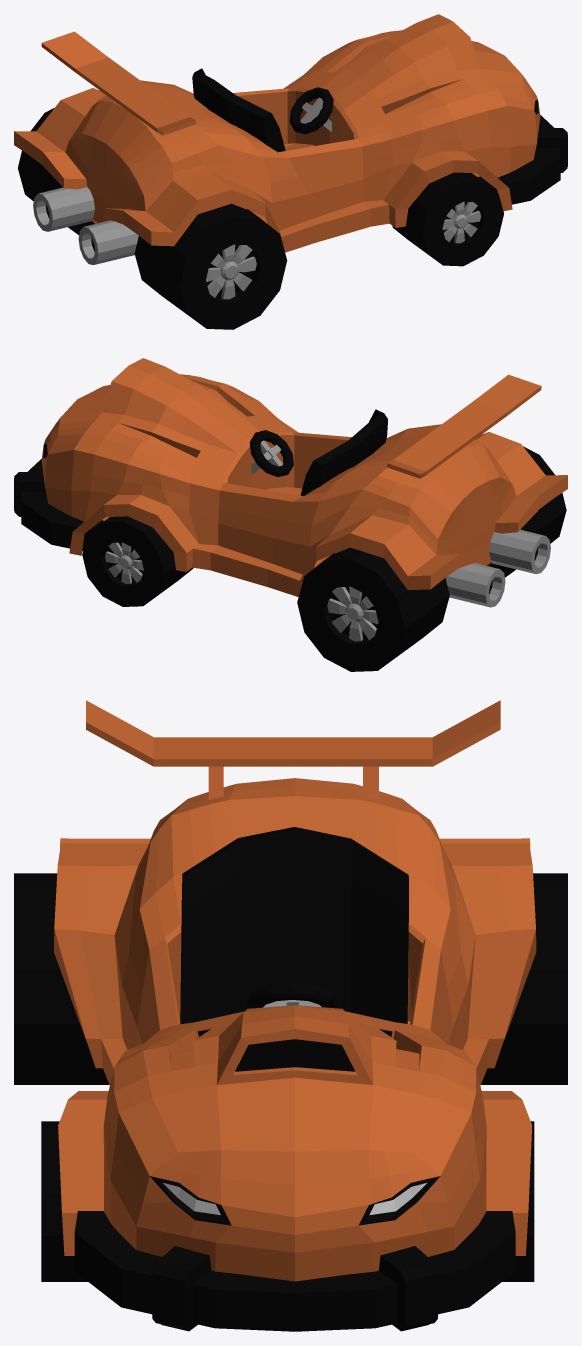
Rendered from Carro_1.fbx.
The picture shows the model from 3 angles, top to bottom: view 1: azimuth 30°, elevation 25°; view 2: azimuth 150°, elevation 25°; view 3: azimuth 270°, elevation 25°; orthographic projection. The views are drawn at different scales.
Parts seen in each view (by area): view 1: Cube, Cylinder.004, Cylinder.002, Cube.001, Cube.002, Cube.005, Cylinder.005, Cylinder, Cube.006, Cylinder.003; view 2: Cube, Cylinder.003, Cylinder.001, Cube.001, Cube.002, Cube.005, Cylinder, Cylinder.005, Cylinder.004, Cube.006; view 3: Cube, Cube.005, Cube.002, Cube.001, Cylinder.004, Cylinder.003, Cylinder.002, Cube.006, Cylinder.001.
Boxes of the visible parts, x1,y1,x2,y2 form: Cube: (14,14,540,252); Cylinder.004: (134,203,287,329); Cylinder.002: (392,172,503,266); Cube.001: (41,31,195,135); Cube.002: (477,115,567,204); Cube.005: (192,68,285,152); Cylinder.005: (33,187,94,231); Cylinder: (78,220,138,264); Cube.006: (289,87,333,134); Cylinder.003: (18,108,94,234); Cube: (41,358,567,596); Cylinder.003: (297,547,449,671); Cylinder.001: (82,516,193,606); Cube.001: (387,374,541,478); Cube.002: (14,459,103,551); Cube.005: (300,409,387,495); Cylinder: (489,529,550,574); Cylinder.005: (445,563,505,607); Cylinder.004: (488,446,566,577); Cube.006: (249,430,293,476); Cube: (54,778,536,1281); Cube.005: (180,827,408,1024); Cube.002: (74,1211,515,1331); Cube.001: (86,700,500,799); Cylinder.004: (14,873,109,1084); Cylinder.003: (481,873,567,1084); Cylinder.002: (41,1121,87,1281); Cube.006: (247,982,337,1008); Cylinder.001: (502,1121,534,1281).
Bounding box in the file's own units: 828 × 331 × 490.
